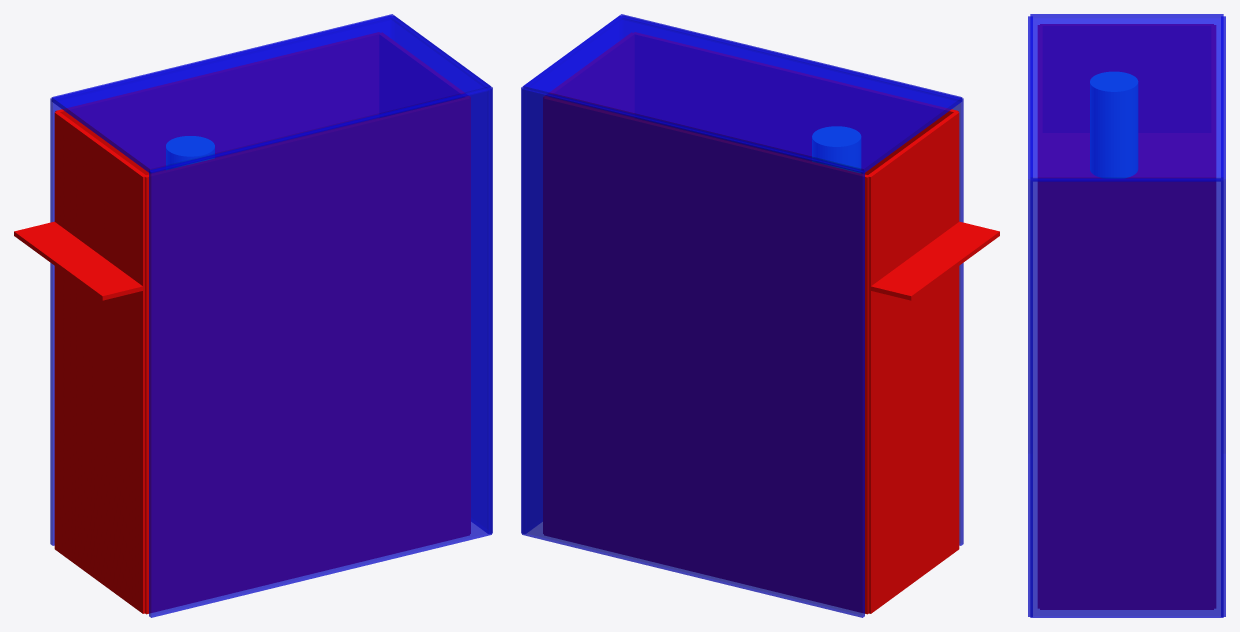
Rendered from env.dae.
3 renders of one model, left to right at view 1: azimuth 30°, elevation 25°; view 2: azimuth 150°, elevation 25°; view 3: azimuth 270°, elevation 25°, orthographic.
Parts seen in each view (by area): view 1: base (×10); view 2: base (×10); view 3: base (×10).
Boxes of the visible parts, left/top/right/bottom form: base (×10): left=14, top=14, right=492, bottom=617; base (×10): left=521, top=14, right=999, bottom=617; base (×10): left=1028, top=14, right=1225, bottom=617.
Size of what is drawn, in the model's own units: 0.905 by 0.41 by 1.
